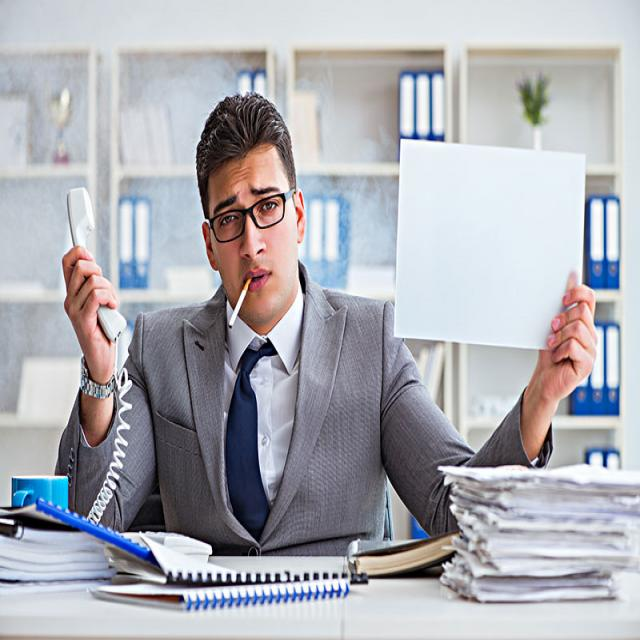smoking: (227, 275, 252, 329)
